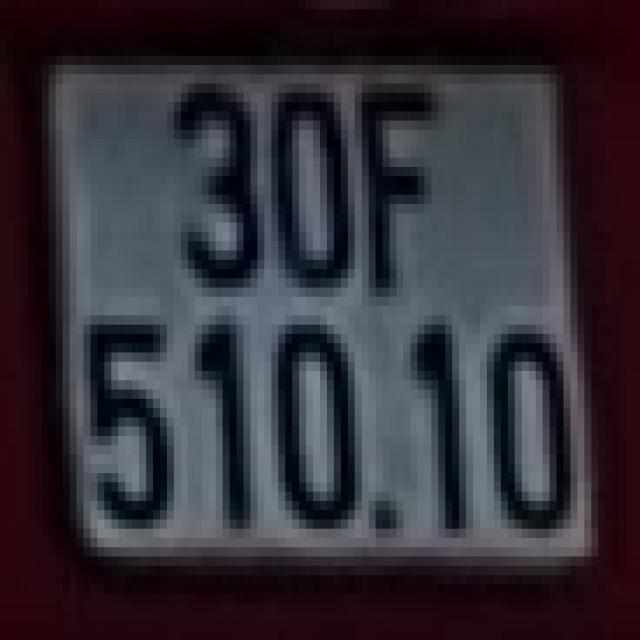0: (490, 320, 574, 533), (275, 315, 358, 529), (271, 84, 355, 288)
1: (410, 320, 473, 533), (195, 315, 257, 529)
3: (170, 79, 261, 292)
5: (80, 315, 177, 529)
F: (355, 79, 438, 292)
